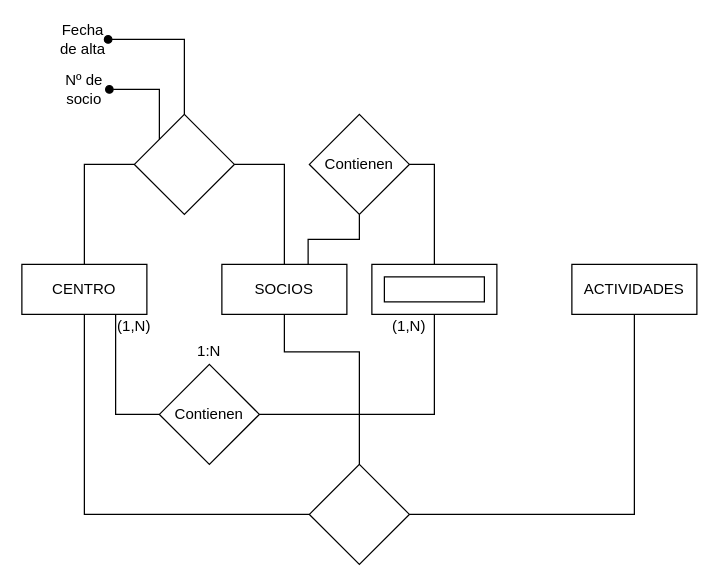
The diagram is 719 pixels wide and 586 high, and some of its shapes have lost their labels. Each missing label, with the box of its shape:
Pertenecen: (133, 113, 234, 214)
SALAS: (383, 276, 484, 302)
Se matriculan: (308, 463, 409, 564)
